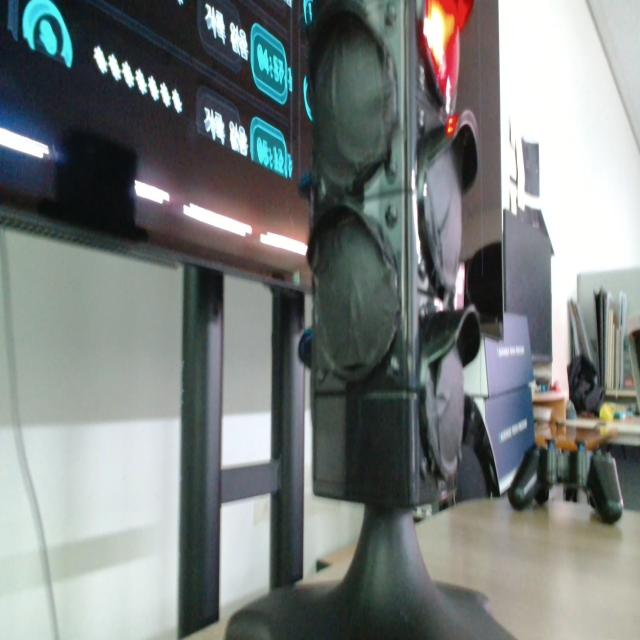red_light: (423, 0, 473, 112), (446, 115, 459, 137)
